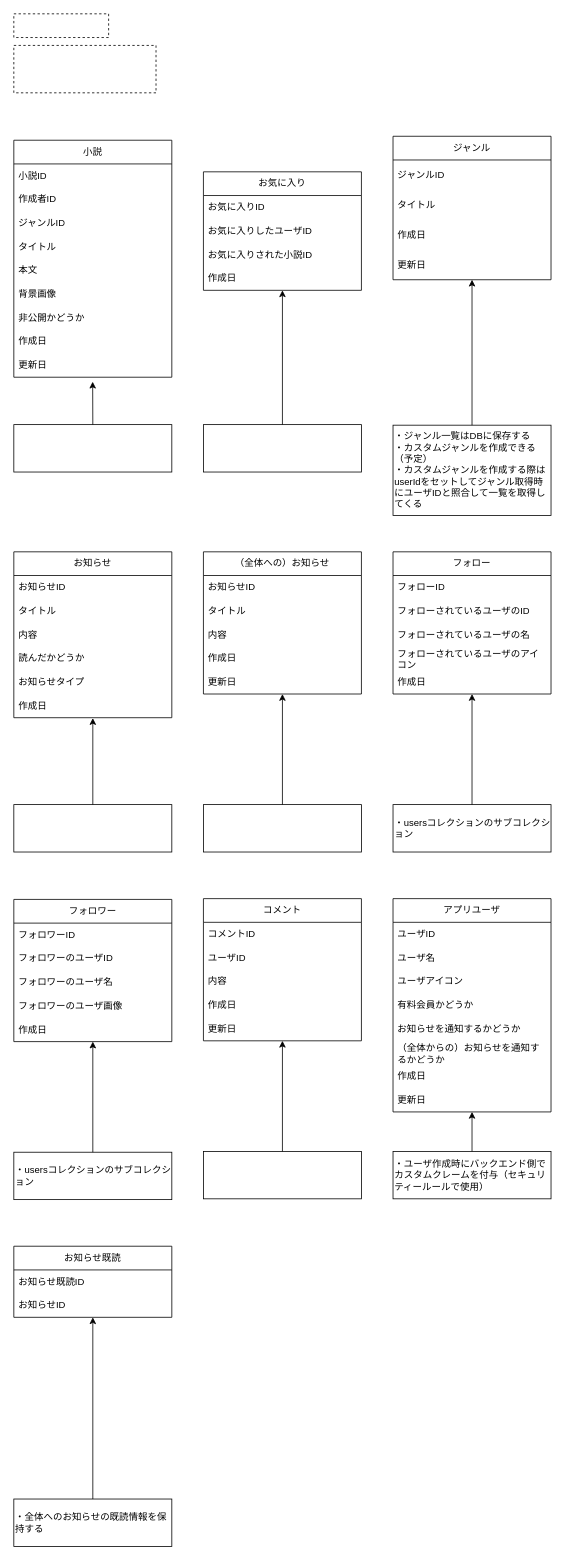
This 565x1560 diagram has some shape labels left out. Each missing label, with the centre of its shape:
ドメインモデリング: point (61, 25)
・novelsコレクションのサブコレクションとして作成する。: point (282, 1175)
・お気に入りのデータはボタンタップ毎に作成、削除を行う: point (282, 448)
・お知らせのタイプはint型で保存する。 ・更新はないので更新日は削除: point (92, 828)
・タイトルは50文字以内 ・本文は10万字以内 ・タイトルと本文はnullも空文字を許容しない: point (92, 448)
・読んだかどうかはUserコレクションのサブコレクションとしてreadAnnouncementsコレクションを作成して管理する: point (282, 828)
業務知識をここにまとめてビジネスサイドと開発サイドの仲介役としての役割を果たす。: point (84, 69)
